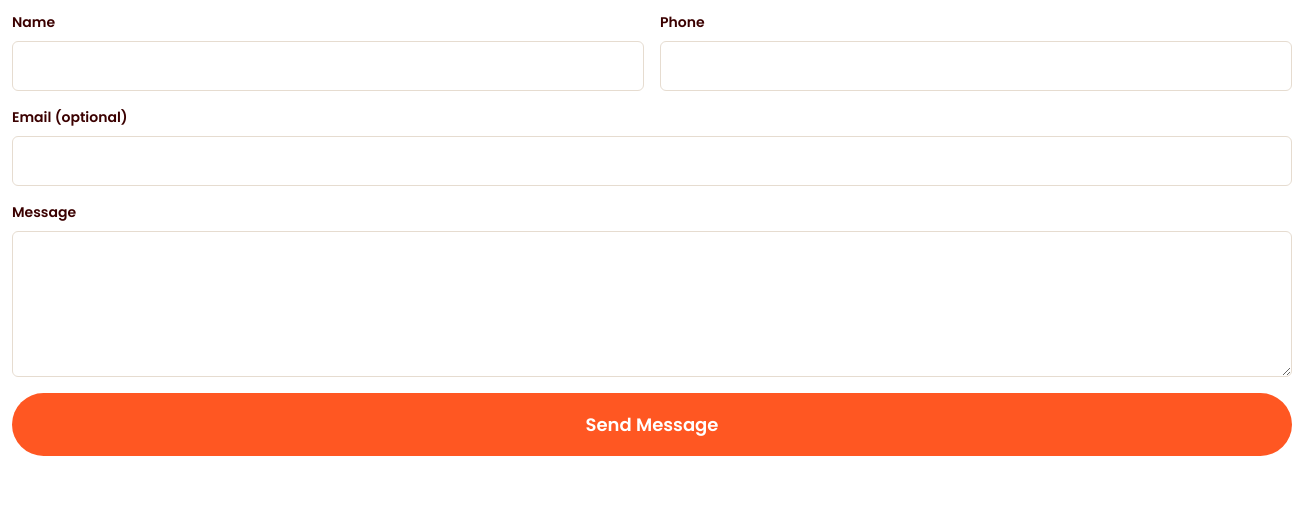
Scenario: ContactForm › shows validation errors for empty required fields
This screenshot has width=1304, height=525.
Click the button "Send Message": coordinates (652, 424) x1=12 y1=393 x2=1292 y2=456
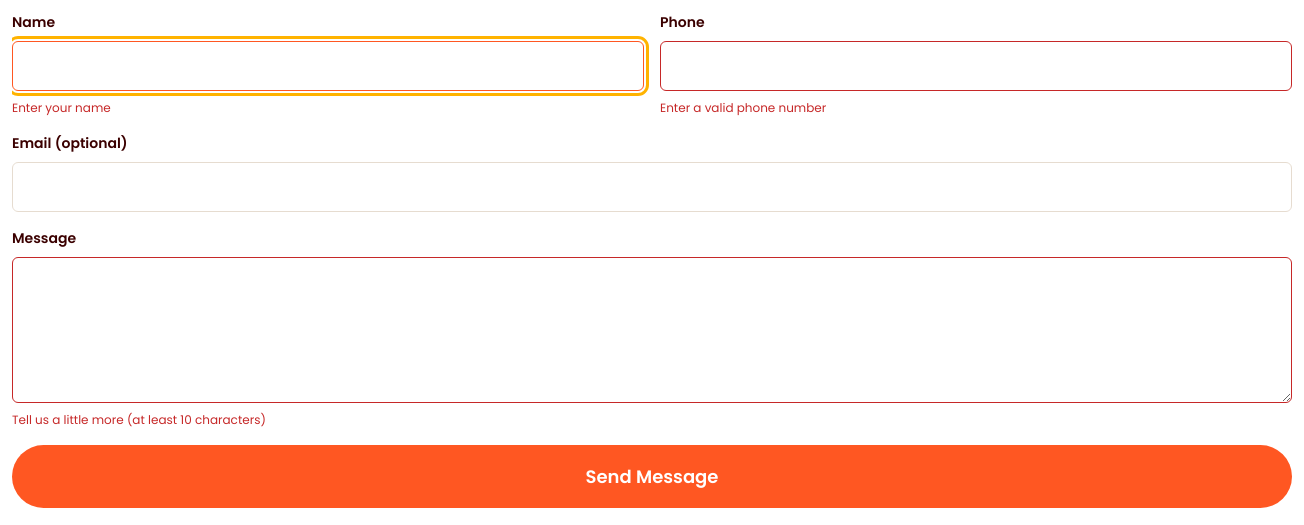
Expected: the text "Enter your name" is shown, x1=12 y1=99 x2=111 y2=116
Expected: the text "Enter a valid phone number" is shown, x1=660 y1=99 x2=826 y2=116
